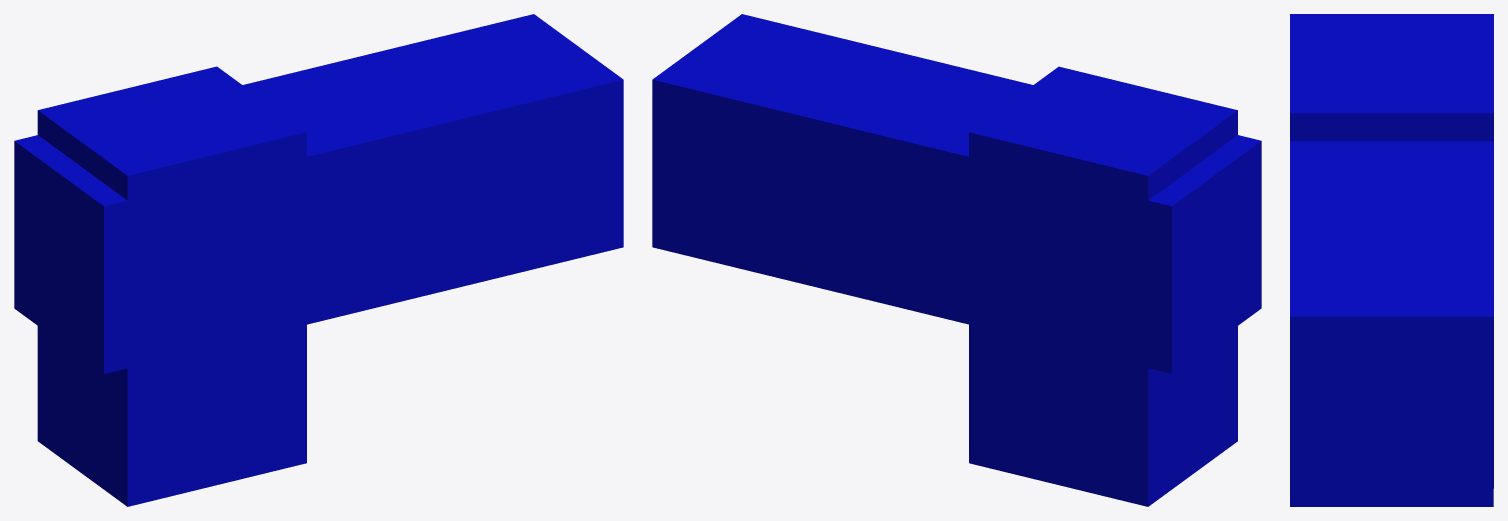
The model's file is Gun.fbx.
3 renders of one model, left to right at view 1: azimuth 30°, elevation 25°; view 2: azimuth 150°, elevation 25°; view 3: azimuth 270°, elevation 25°, orthographic. The views are drawn at different scales.
Parts seen in each view (by area): view 1: Cube; view 2: Cube; view 3: Cube.
Boxes of the visible parts, x1=… form: Cube: x1=14, y1=14, x2=623, y2=506; Cube: x1=652, y1=14, x2=1261, y2=506; Cube: x1=1290, y1=14, x2=1493, y2=506.
Bounding box in the file's own units: 78.04 × 47.51 × 23.36.
